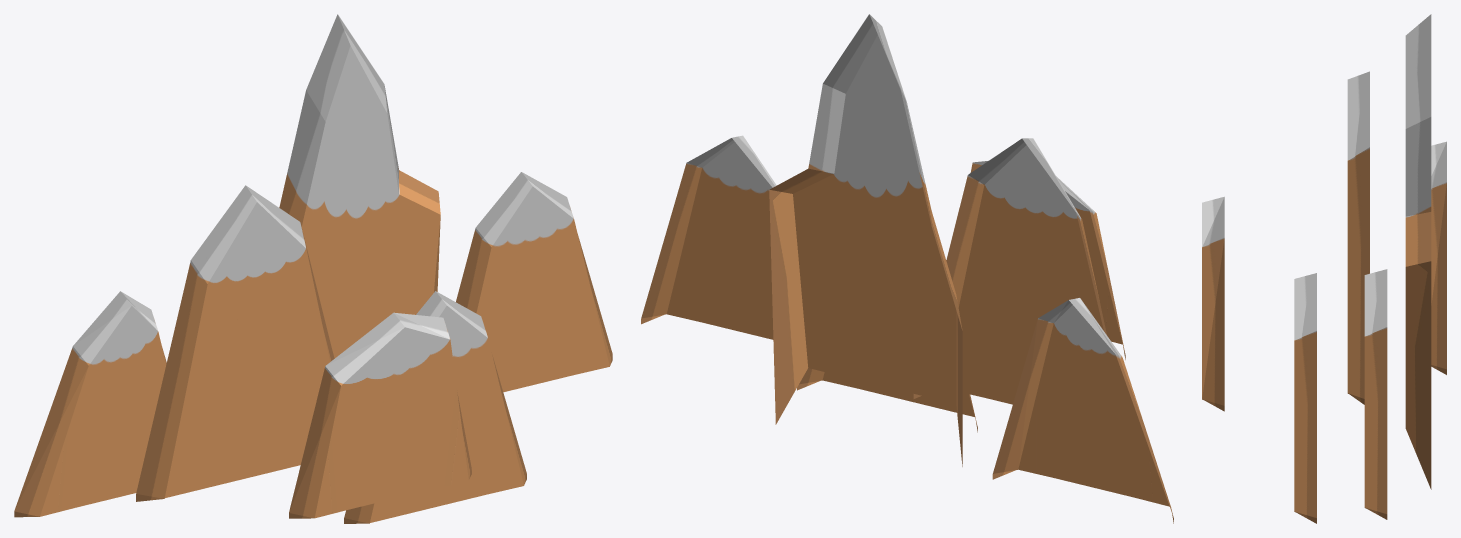
The model's file is Mountain.FBX.
The picture shows the model from 3 angles, left to right: view 1: azimuth 30°, elevation 25°; view 2: azimuth 150°, elevation 25°; view 3: azimuth 270°, elevation 25°; orthographic projection.
Visible parts, largest first — view 1: Plane023, Plane021, Plane025, Plane022, Plane026, Plane024; view 2: Plane021, Plane023, Plane026, Plane022, Plane025, Plane024; view 3: Plane021, Plane023, Plane022, Plane024, Plane025, Plane026.
Boxes of the visible parts, <box> form: Plane023: <box>136,185,334,501</box>; Plane021: <box>279,14,440,358</box>; Plane025: <box>289,312,471,518</box>; Plane022: <box>456,172,612,392</box>; Plane026: <box>14,291,166,517</box>; Plane024: <box>344,291,526,523</box>; Plane021: <box>769,14,962,466</box>; Plane023: <box>913,138,1106,404</box>; Plane026: <box>992,298,1173,523</box>; Plane022: <box>641,135,776,339</box>; Plane025: <box>970,161,1125,359</box>; Plane024: <box>797,368,977,432</box>; Plane021: <box>1405,14,1431,489</box>; Plane023: <box>1347,71,1369,404</box>; Plane022: <box>1364,269,1387,519</box>; Plane024: <box>1294,273,1316,523</box>; Plane025: <box>1202,196,1224,411</box>; Plane026: <box>1431,141,1446,374</box>.
Size of the model in its own units: 4543 by 3475 by 1724.
Materials: 2 (2 with a texture image).
